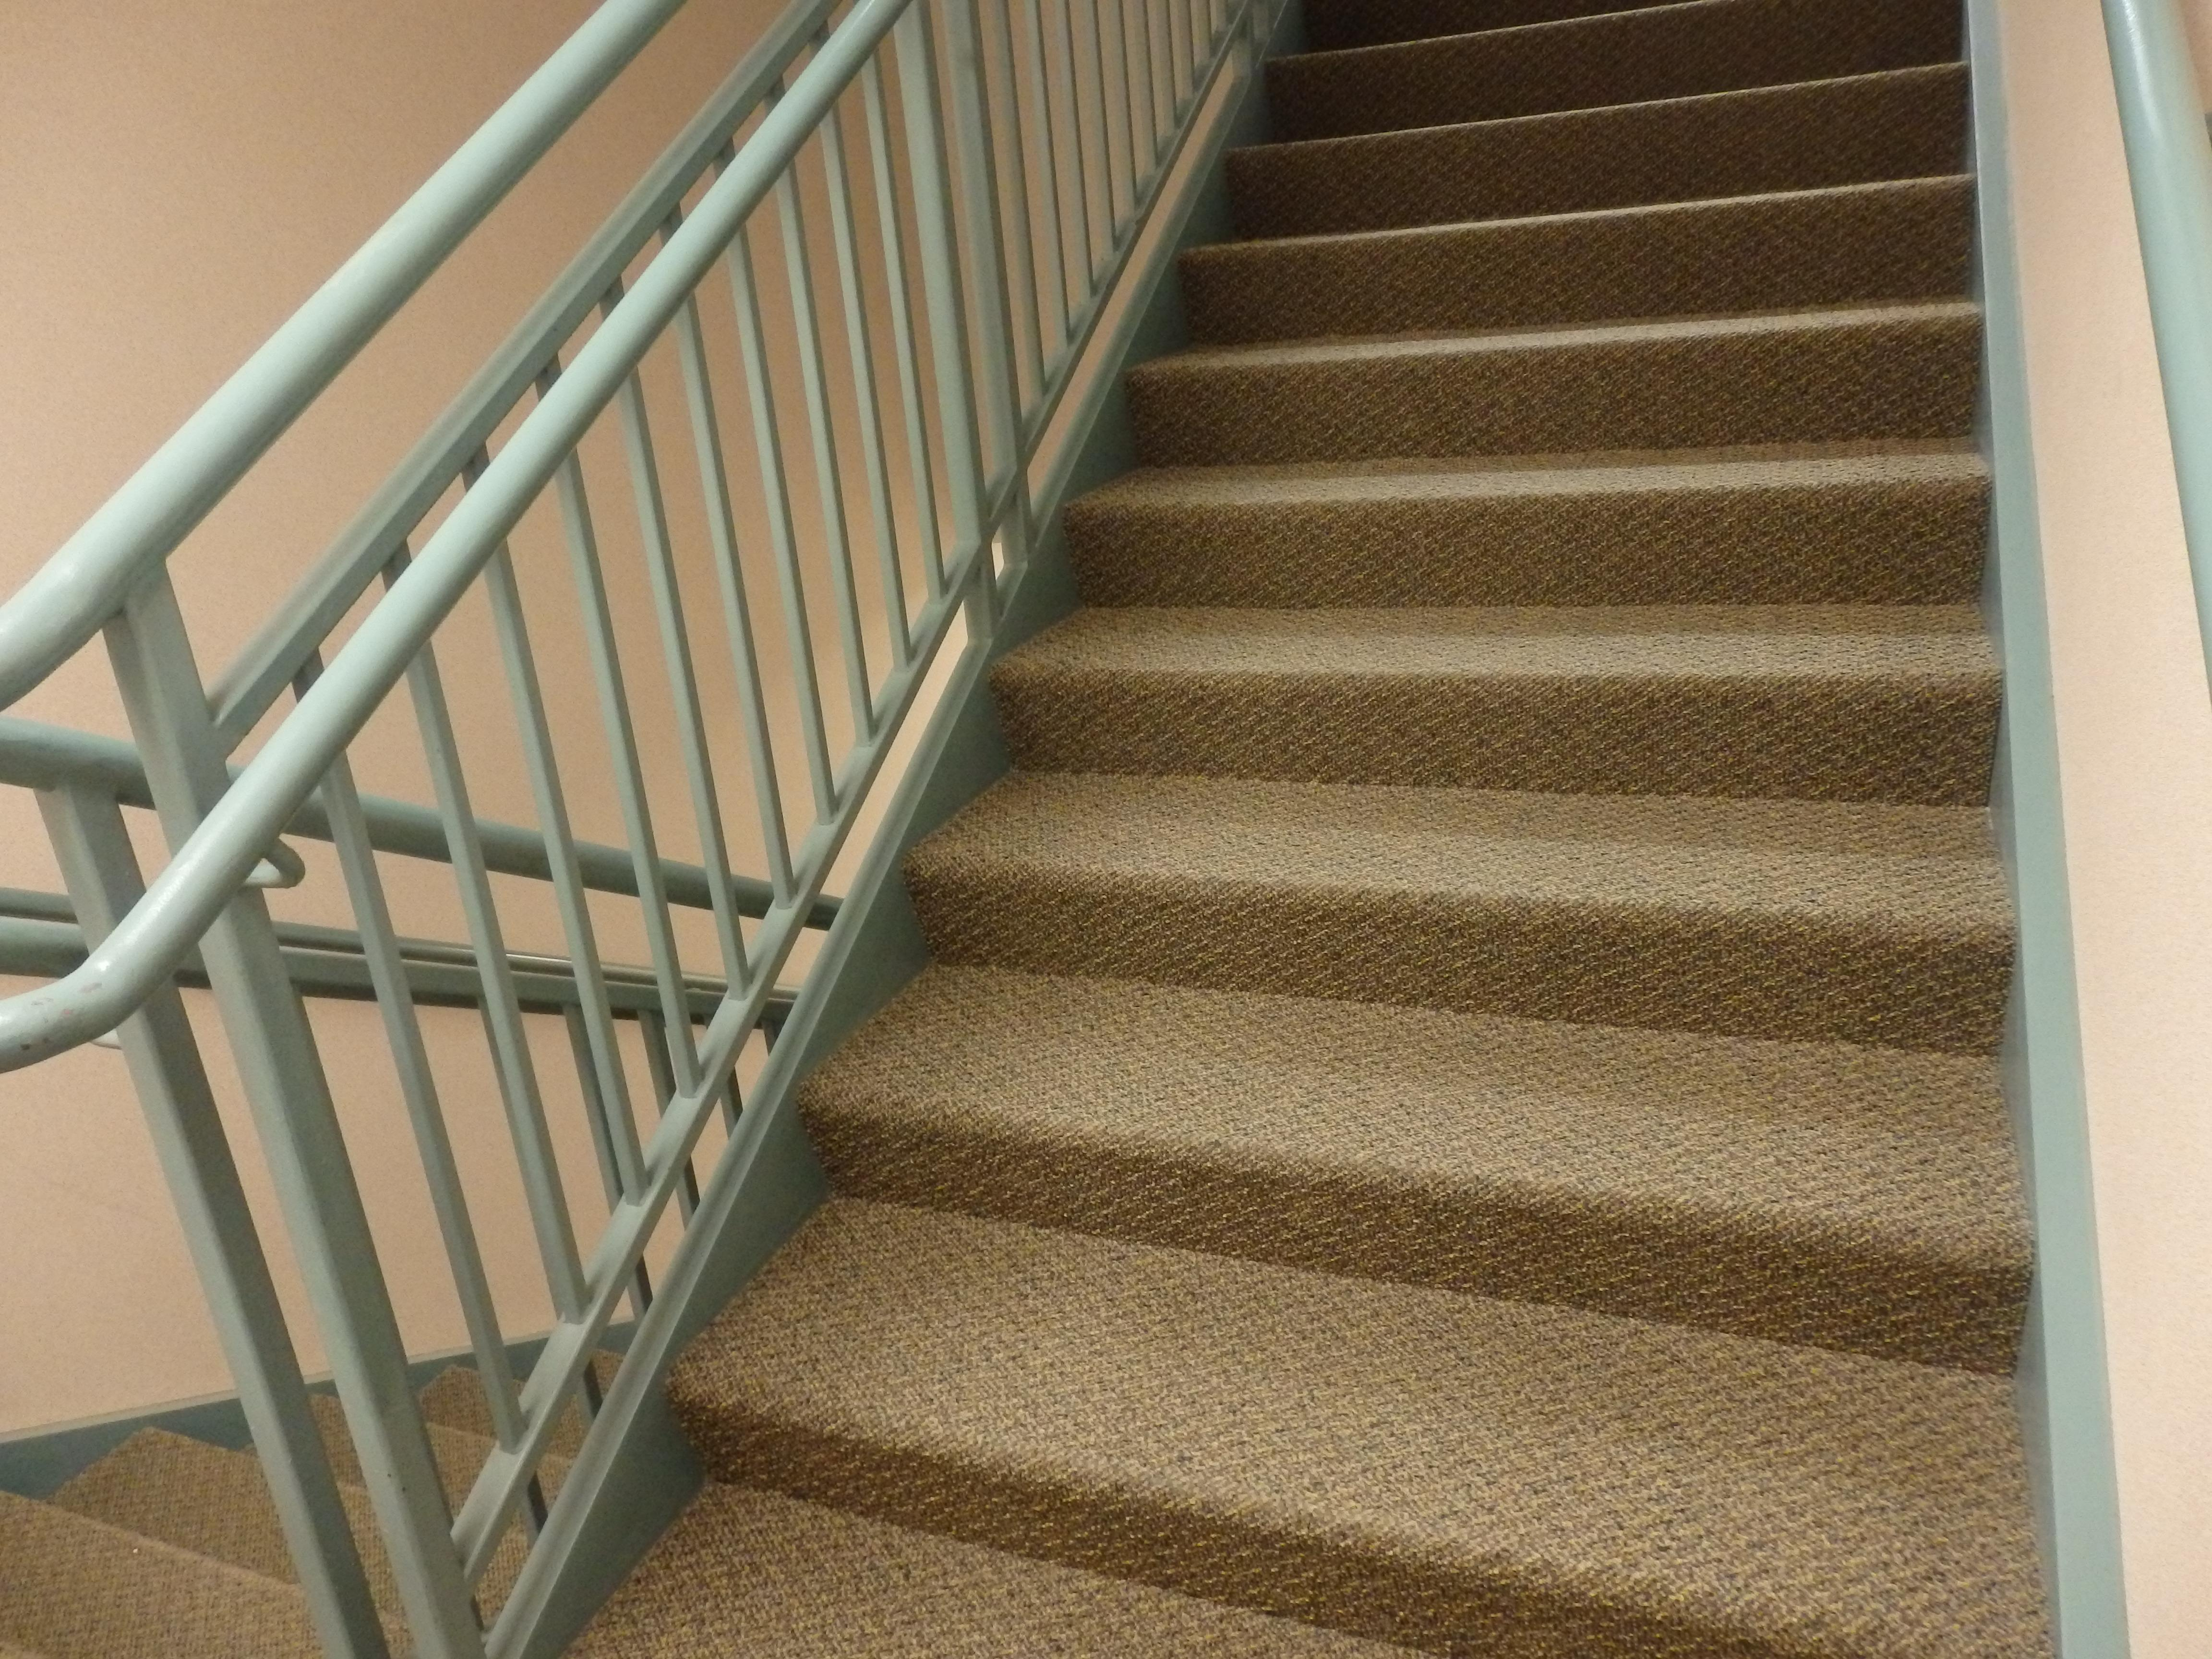stairs_up: (965, 82, 1994, 1645)
